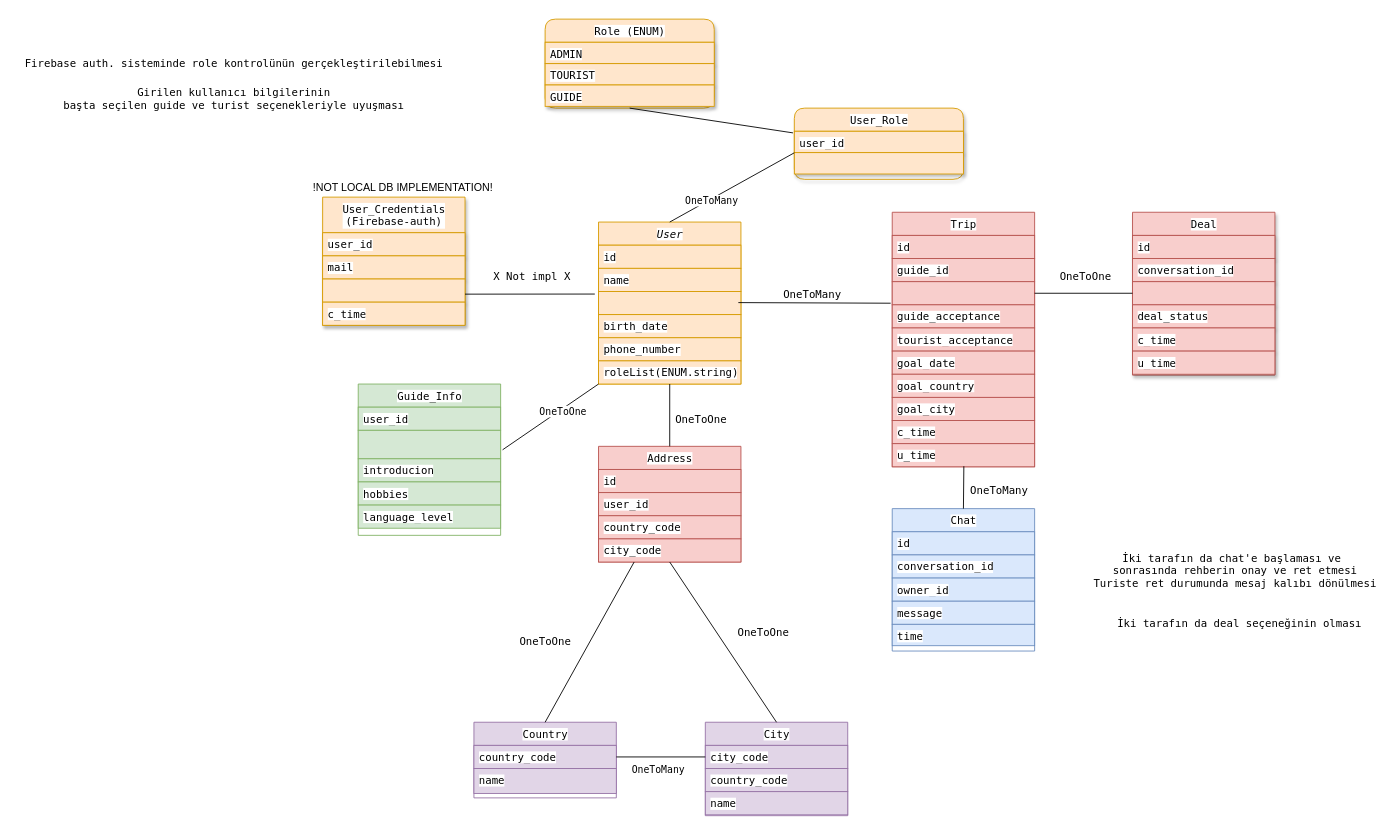
Some shapes in this 1396 by 833 pixel diagram are drawn without their labels. Here are the shapes that lost their labels. From the top down, the centre of each, then its label:
At pixel 879 164: "role(ENUM.String)".
At pixel 394 291: "password".
At pixel 669 303: "email".
At pixel 963 293: "tourist_id".
At pixel 1204 294: "deal_date".
At pixel 429 444: "school".
